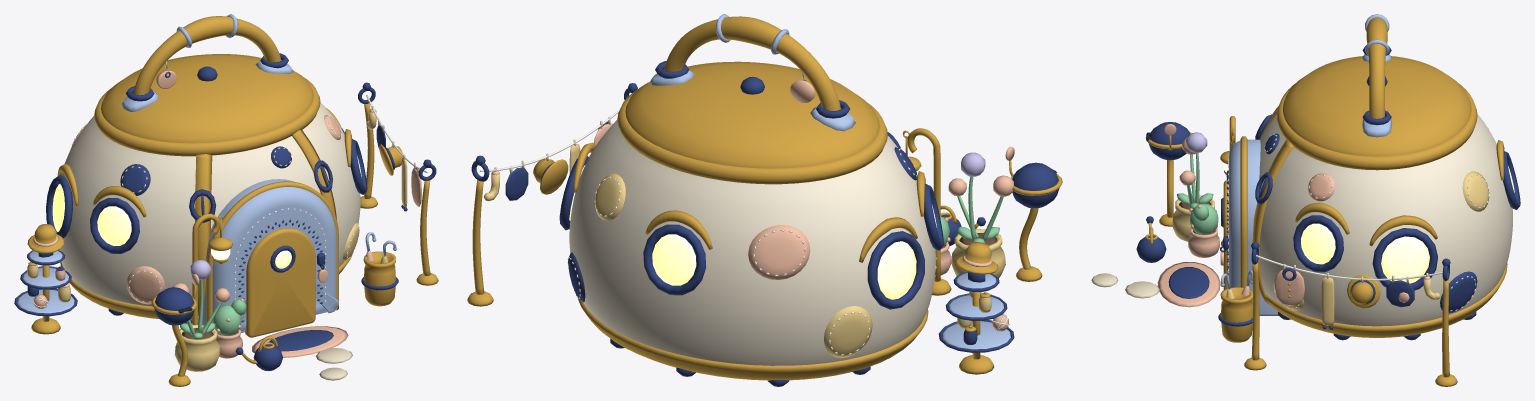
Rendered from house_08_0803.fbx.
3 renders of one model, left to right at view 1: azimuth 30°, elevation 25°; view 2: azimuth 150°, elevation 25°; view 3: azimuth 270°, elevation 25°, orthographic. The views are drawn at different scales.
Parts seen in each view (by area): view 1: House_Body_Bag, House_Lid, Entrance_Pocket, Entrance_Door, House_RimPiping, Roof_Handle, Window_Grommets, Prop_RoundShelf, Wall_Straps, Entrance_Mat, Prop_Clothesline_Posts, Window_Glass (+25 smaller); view 2: House_Body_Bag, House_Lid, Window_Grommets, House_RimPiping, House_BaseTrim, Roof_Handle, Prop_RoundShelf, Window_Glass, Wall_Patches_Mint, Wall_Patches_Pink, Window_Eyelids, Prop_Laundry (+11 smaller); view 3: House_Body_Bag, House_Lid, Prop_Laundry, House_RimPiping, Entrance_Pocket, Window_Grommets, Window_Glass, House_BaseTrim, Entrance_Mat, Prop_Clothesline_Posts, Roof_Handle, Prop_UmbrellaStand (+19 smaller).
Part boxes in pixels (x1,y1,x2,y2): House_Body_Bag: (59,102,360,306); House_Lid: (101,54,313,143); Entrance_Pocket: (191,179,338,332); Entrance_Door: (245,228,315,337); House_RimPiping: (94,77,320,156); Roof_Handle: (133,16,281,95); Window_Grommets: (46,128,367,253); Prop_RoundShelf: (14,250,77,334); Wall_Straps: (195,130,336,317); Entrance_Mat: (252,326,348,357); Prop_Clothesline_Posts: (360,103,438,285); Window_Glass: (52,155,361,245); House_Body_Bag: (569,120,935,365); House_Lid: (625,61,879,168); Window_Grommets: (559,156,943,309); House_RimPiping: (617,90,887,184); House_BaseTrim: (577,297,928,380); Roof_Handle: (664,16,840,110); Prop_RoundShelf: (938,272,1014,374); Window_Glass: (569,165,936,299); Wall_Patches_Mint: (595,173,872,357); Wall_Patches_Pink: (748,225,935,279); Window_Eyelids: (573,142,925,262); Prop_Laundry: (484,122,612,200); House_Body_Bag: (1259,114,1512,326); House_Lid: (1283,56,1471,156); Prop_Laundry: (1274,267,1440,329); House_RimPiping: (1277,84,1477,170); Entrance_Pocket: (1229,139,1278,315); Window_Grommets: (1293,151,1520,290); Window_Glass: (1301,166,1514,283); House_BaseTrim: (1265,263,1507,337); Entrance_Mat: (1157,262,1220,307); Prop_Clothesline_Posts: (1244,263,1457,386); Roof_Handle: (1366,17,1387,118); Prop_UmbrellaStand: (1218,287,1252,342).
Size of the model in its own units: 6.32 by 3.85 by 5.71.
